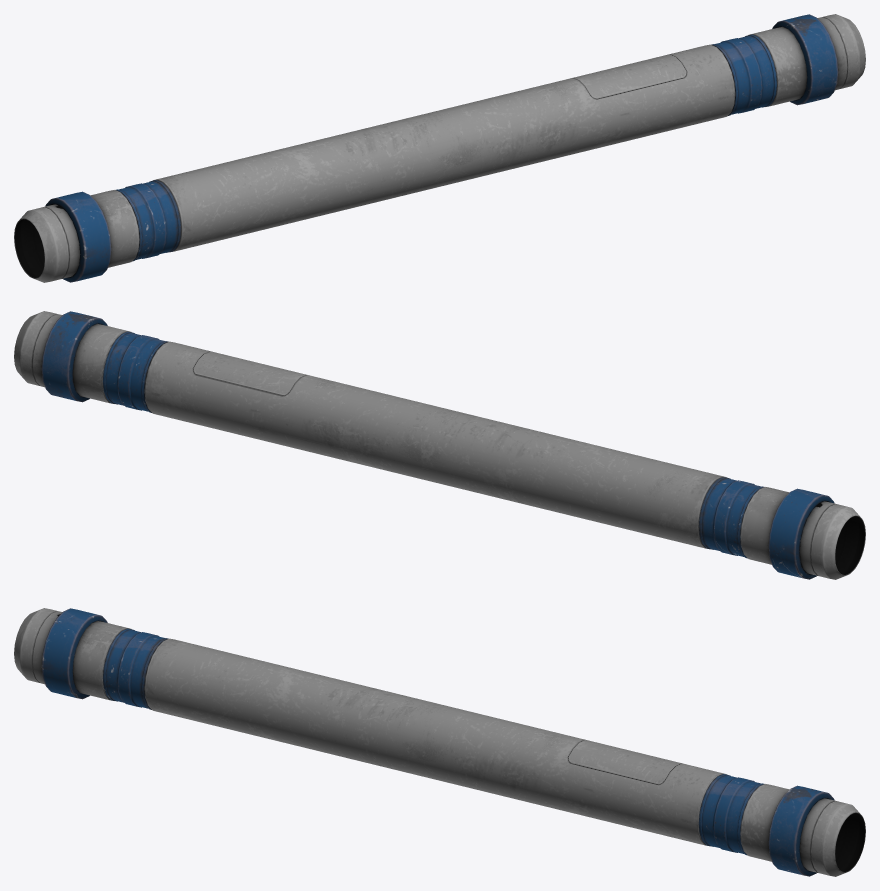
The model's file is SM_Pipe01_Line.fbx.
3 renders of one model, top to bottom at view 1: azimuth 30°, elevation 25°; view 2: azimuth 150°, elevation 25°; view 3: azimuth 330°, elevation 25°, orthographic.
Parts seen in each view (by area): view 1: SM_Pipe01_Line_LOD0; view 2: SM_Pipe01_Line_LOD0; view 3: SM_Pipe01_Line_LOD0.
Boxes of the visible parts, x1=… form: SM_Pipe01_Line_LOD0: x1=14, y1=14, x2=865, y2=282; SM_Pipe01_Line_LOD0: x1=14, y1=311, x2=865, y2=579; SM_Pipe01_Line_LOD0: x1=14, y1=608, x2=865, y2=876.
Bounding box in the file's own units: 225 × 20.59 × 20.59.
1 material, 1 textured.
